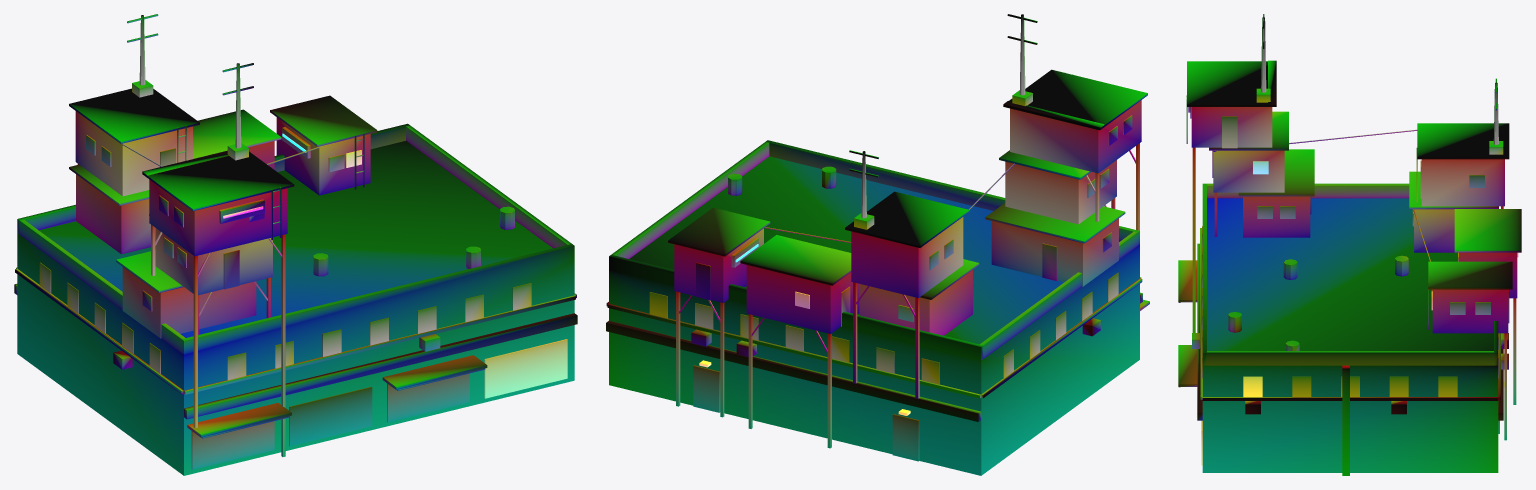
File: Slum_Low.fbx
3 renders of one model, left to right at view 1: azimuth 30°, elevation 25°; view 2: azimuth 150°, elevation 25°; view 3: azimuth 270°, elevation 25°, orthographic. The views are drawn at different scales.
Visible parts, largest first — view 1: Slum_Low_LOD0; view 2: Slum_Low_LOD0; view 3: Slum_Low_LOD0.
Boxes of the visible parts, <box> form: Slum_Low_LOD0: <box>14,14,577,475</box>; Slum_Low_LOD0: <box>606,14,1149,475</box>; Slum_Low_LOD0: <box>1178,14,1521,475</box>.
Size of what is drawn, in the model's own units: 24.22 by 20.56 by 19.74.
